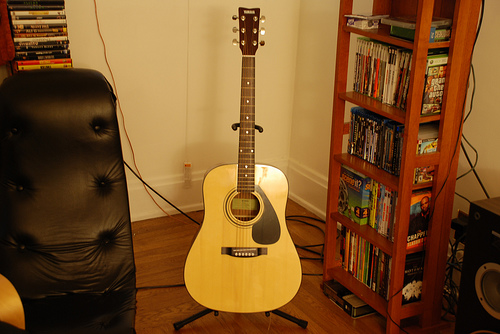guitar: (184, 5, 304, 315)
